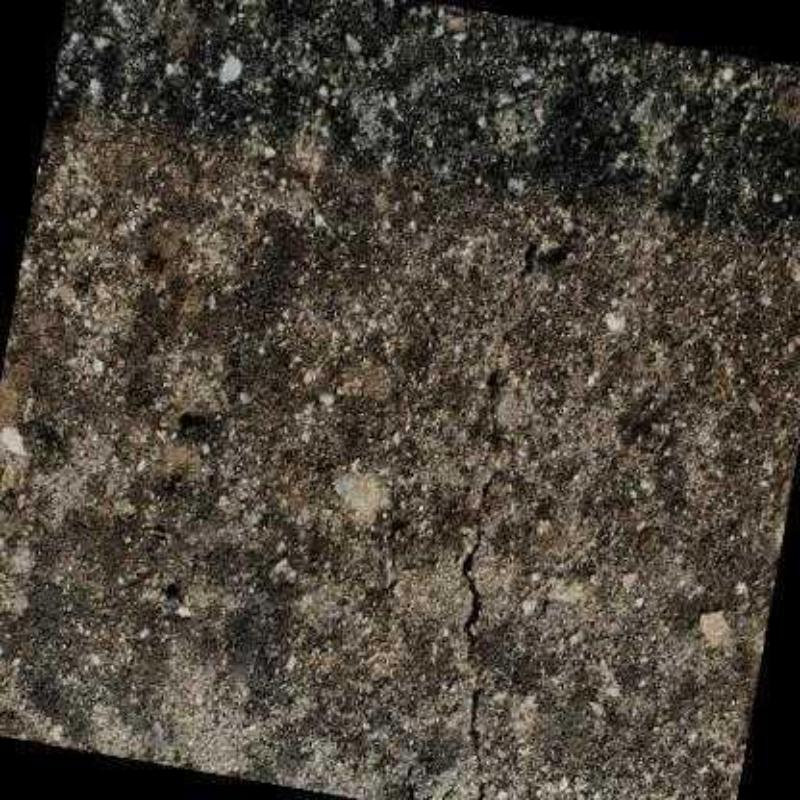pothole: (460, 371, 519, 798), (496, 240, 538, 327)
